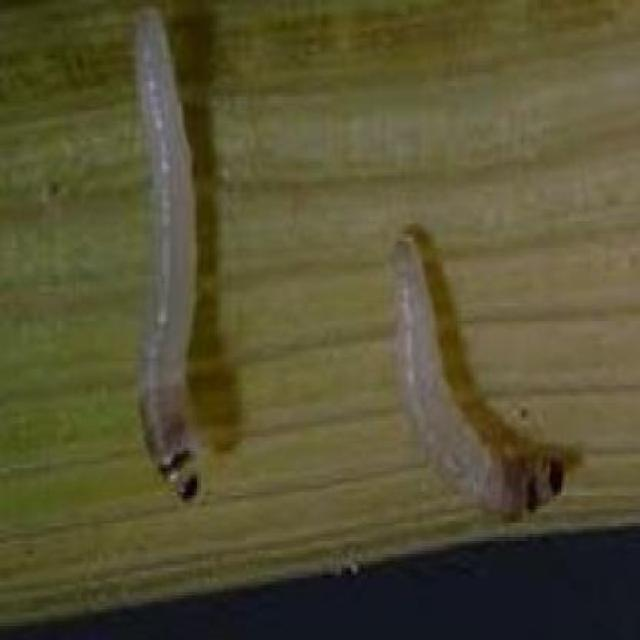whorl-maggot: (373, 219, 584, 536), (122, 0, 238, 509)
